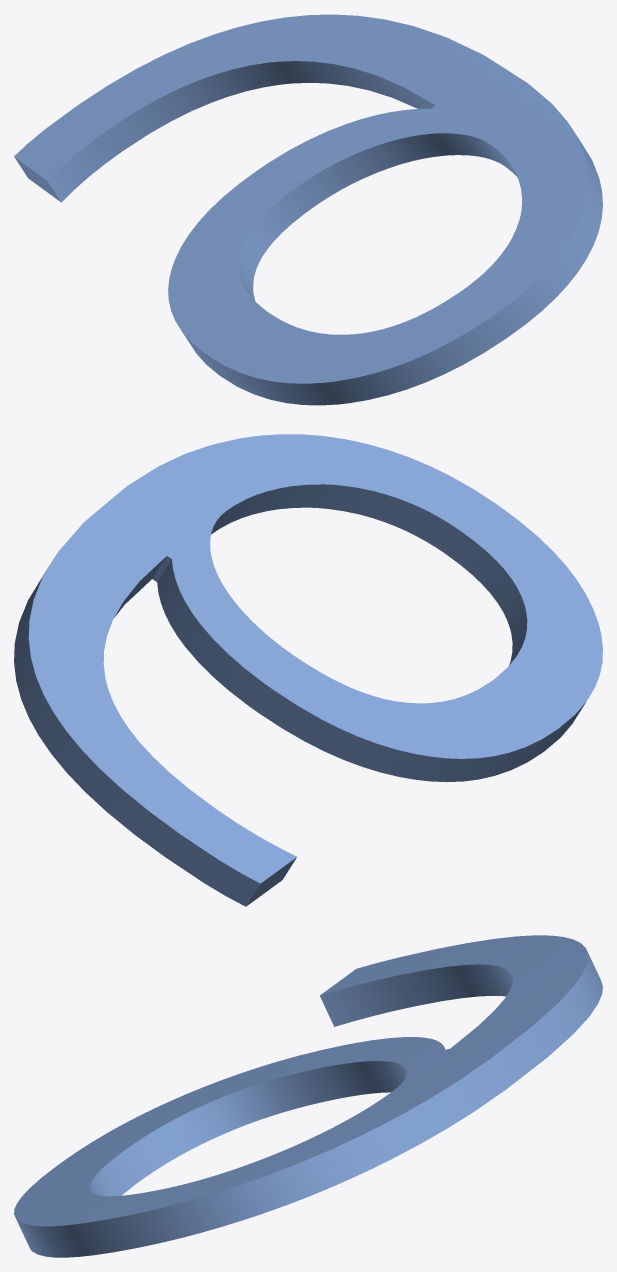
The model's file is New_Number_9.gltf.
The picture shows the model from 3 angles, top to bottom: view 1: azimuth 30°, elevation 25°; view 2: azimuth 150°, elevation 25°; view 3: azimuth 330°, elevation 25°; orthographic projection. The views are drawn at different scales.
Visible parts, largest first — view 1: Part 324; view 2: Part 324; view 3: Part 324.
Part boxes in pixels (<box>): Part 324: <box>14,14,602,405</box>; Part 324: <box>14,434,602,906</box>; Part 324: <box>14,935,602,1257</box>.
Bounding box in the file's own units: 0.00347 × 0.00163 × 0.00567.
